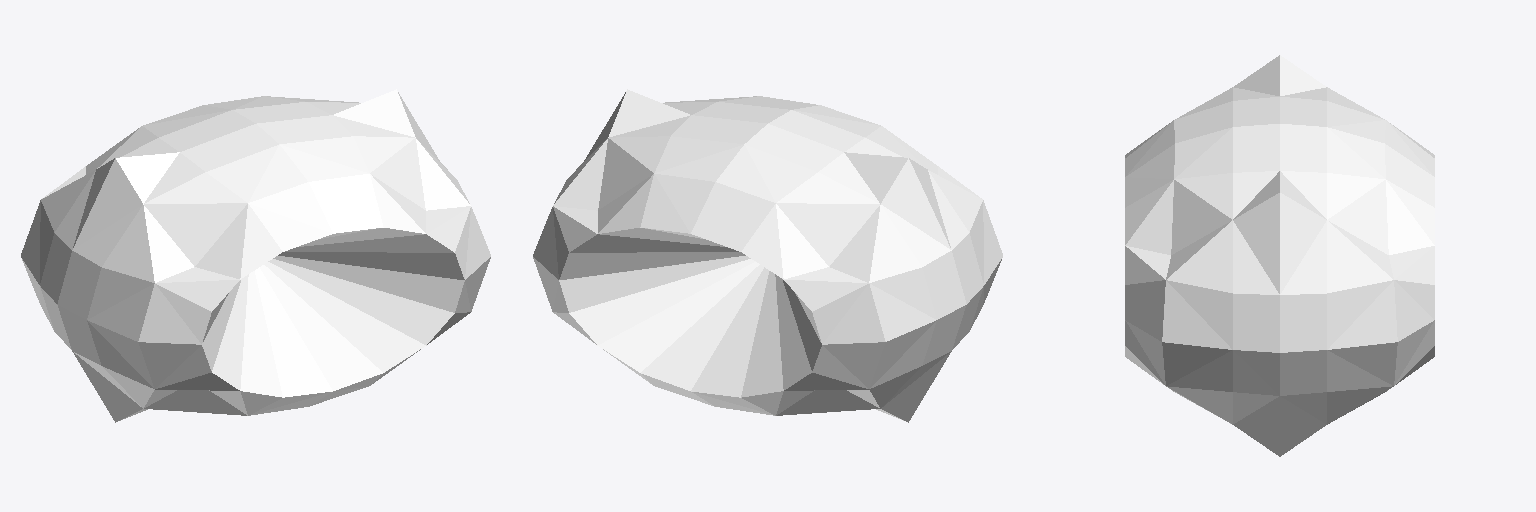
File: whiteblock.obj
The picture shows the model from 3 angles: view 1: azimuth 30°, elevation 25°; view 2: azimuth 150°, elevation 25°; view 3: azimuth 270°, elevation 25°; orthographic projection.
Visible parts, largest first — view 1: sphere2; view 2: sphere2; view 3: sphere2.
Part boxes in pixels (left/top/right/bottom): sphere2: left=21, top=89, right=490, bottom=422; sphere2: left=533, top=89, right=1002, bottom=422; sphere2: left=1125, top=55, right=1434, bottom=456.
Bounding box in the file's own units: 2.09 × 1.33 × 1.41.